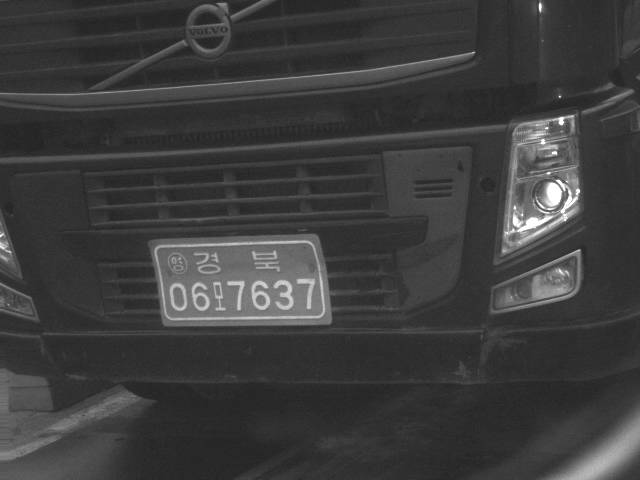car: (1, 1, 638, 401)
plate: (147, 231, 333, 326)
